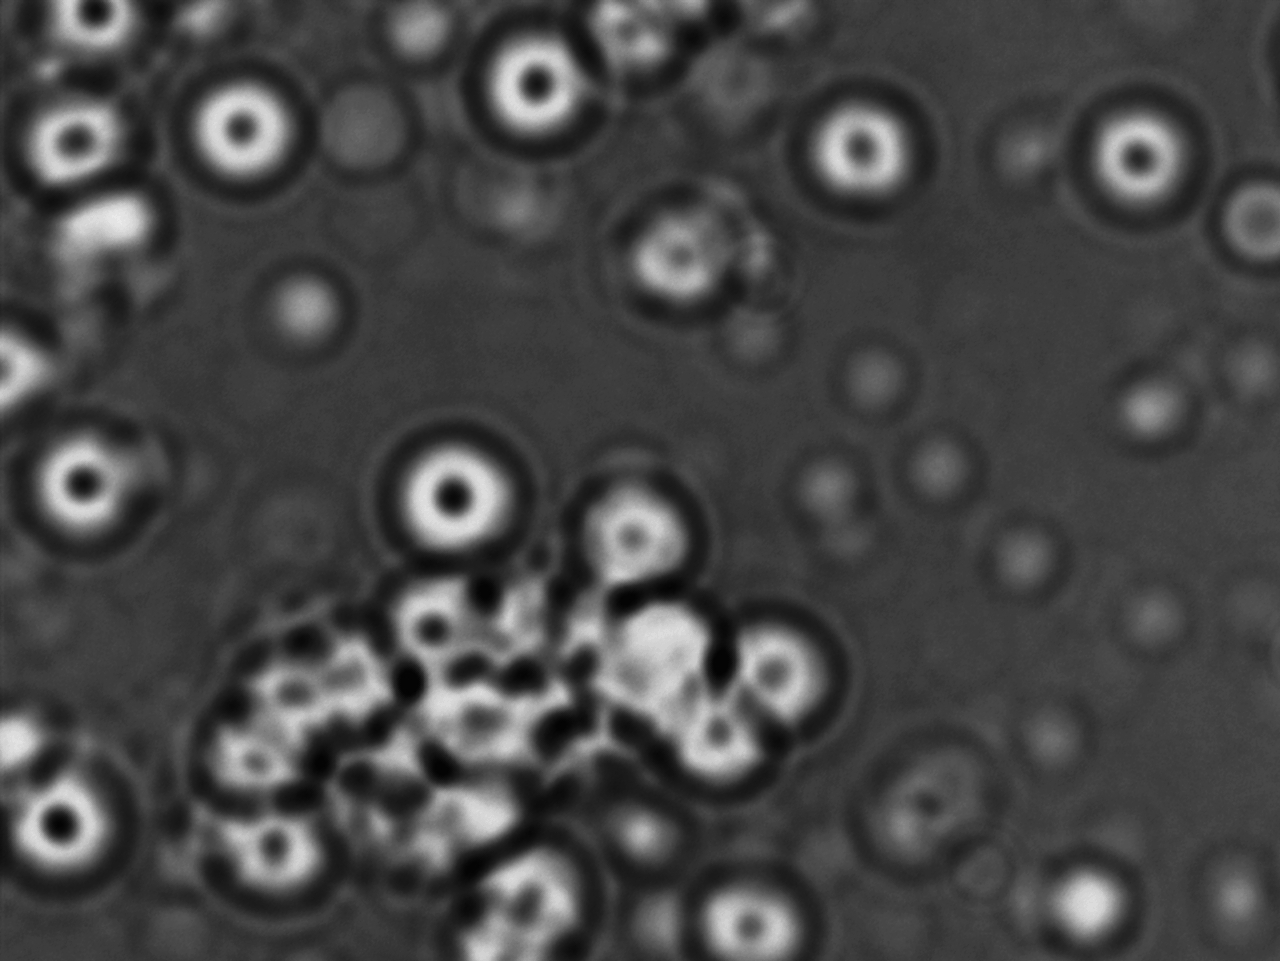depth:24: (374, 421, 538, 576)
depth:32: (1063, 75, 1213, 231), (785, 72, 935, 219), (1, 750, 145, 895), (462, 13, 603, 161), (173, 57, 314, 199), (563, 458, 703, 600), (22, 412, 158, 549), (17, 83, 146, 208), (680, 849, 813, 961)
